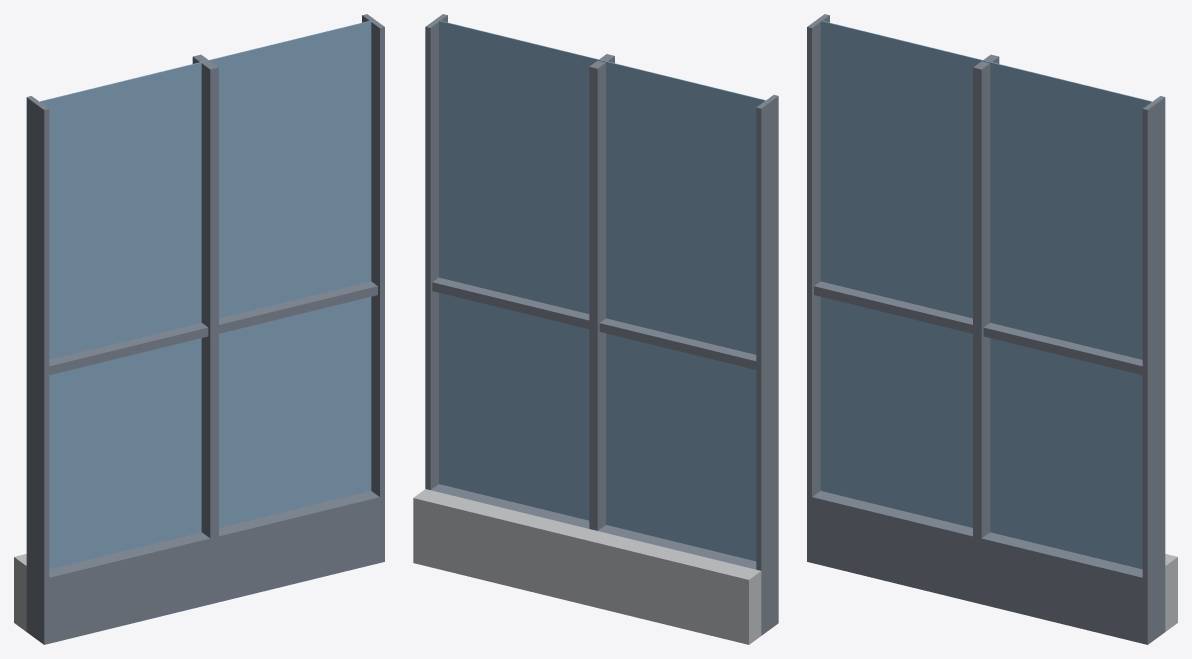
File: t_curt.glb
3 views of the same model, side by side, from view 1: azimuth 30°, elevation 25°; view 2: azimuth 150°, elevation 25°; view 3: azimuth 330°, elevation 25° (orthographic).
Visible parts, largest first — view 1: t_curt_bglass, t_curt_mull, t_curt_band; view 2: t_curt_bglass, t_curt_mull, t_curt_band; view 3: t_curt_bglass, t_curt_mull, t_curt_band.
Boxes of the visible parts, box(x1,y1,x2,y2) form: t_curt_bglass: box(40, 20, 371, 569); t_curt_mull: box(26, 14, 384, 644); t_curt_band: box(14, 554, 26, 631); t_curt_bglass: box(439, 20, 765, 561); t_curt_mull: box(425, 14, 778, 635); t_curt_band: box(413, 489, 761, 644); t_curt_bglass: box(820, 20, 1151, 569); t_curt_mull: box(807, 14, 1165, 644); t_curt_band: box(1165, 554, 1177, 631).
Size of the model in its own units: 2 by 3 by 0.307.
